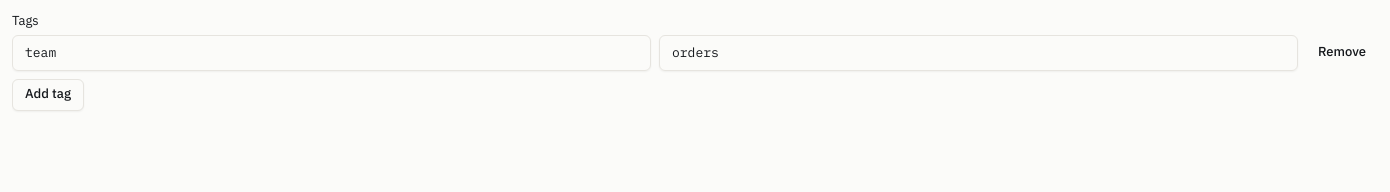
Scenario: TagsField › refuses a key used twice and keeps the first
Click the button "Add tag". click: (48, 95)
box: [12,79,84,111]
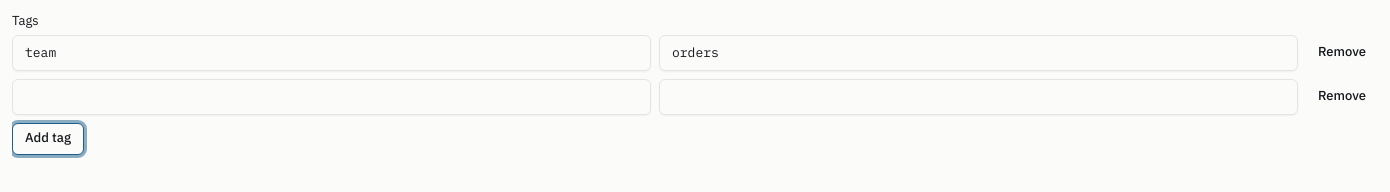
Type "team" into the field named "Tag key 2". click: (332, 97)
box: [12,79,651,115]
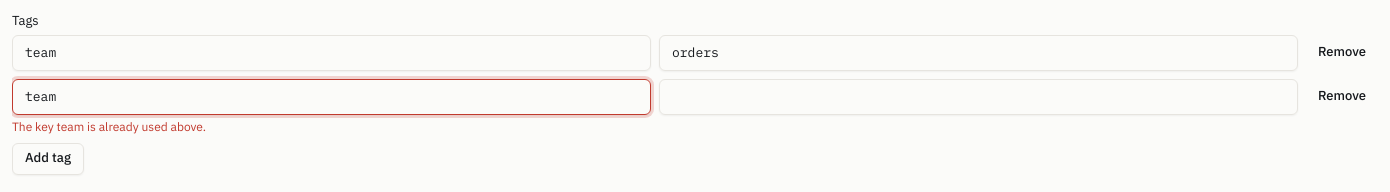
Expected: the text "The key team is already used above." is shown, [12,119,206,134]
